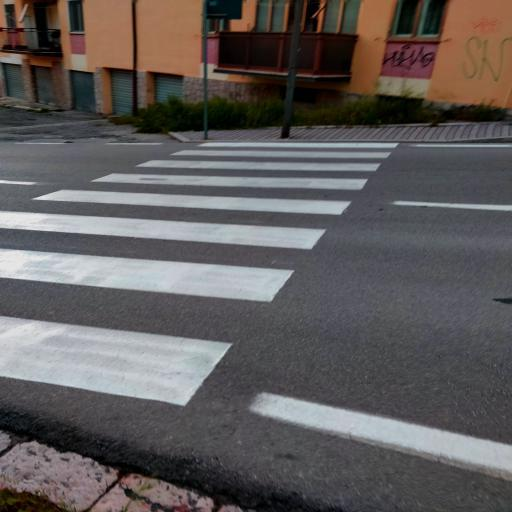crosswalk: (25, 170, 376, 222)
